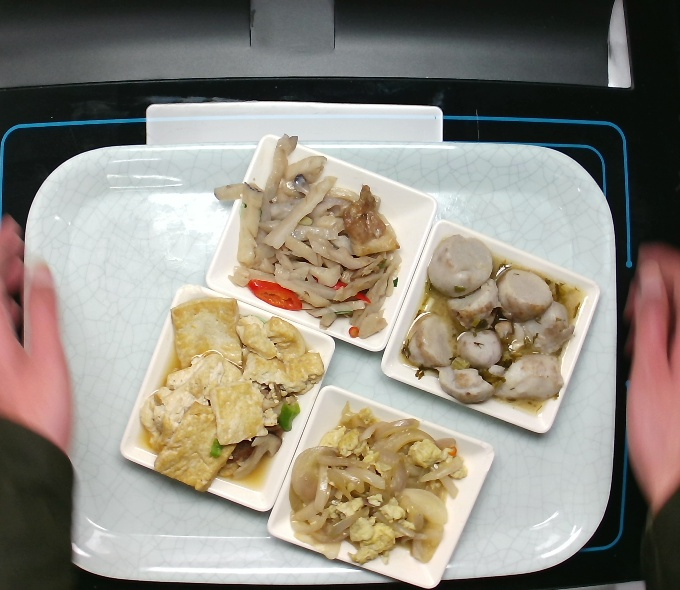wcq-JiaChangDouFu: (139, 293, 326, 493)
wcq-QingChaoOuPian: (208, 134, 405, 348)
wcq-YangCongChaoDan: (290, 398, 475, 570)
wcq-YangYu: (404, 234, 583, 420)
